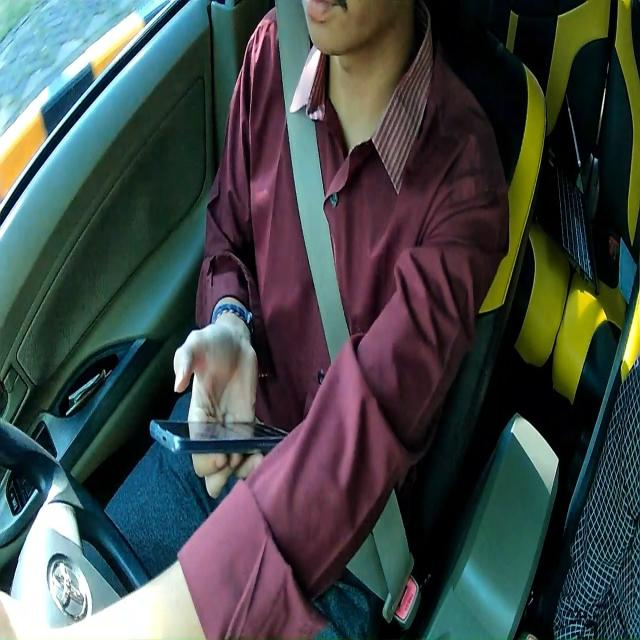phone: (148, 416, 288, 454)
